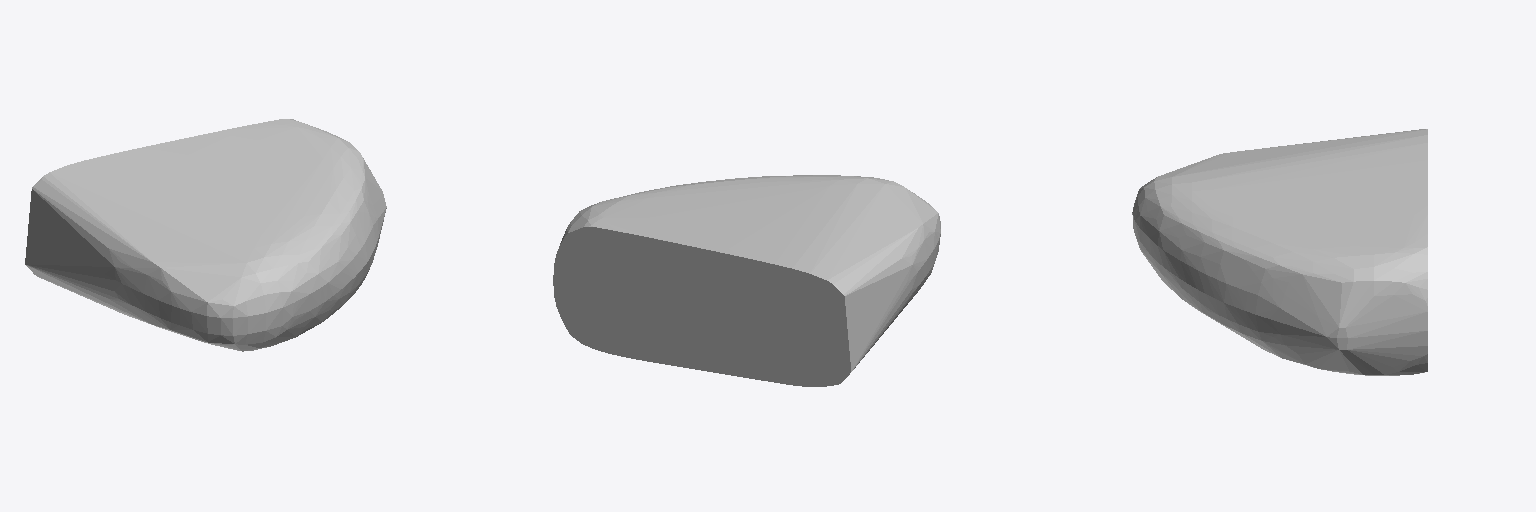
File: Monkey wrench_collision_0.obj
The picture shows the model from 3 angles: view 1: azimuth 30°, elevation 25°; view 2: azimuth 150°, elevation 25°; view 3: azimuth 270°, elevation 25°; orthographic projection.
Bounding box in the file's own units: 47 × 18.66 × 38.22.